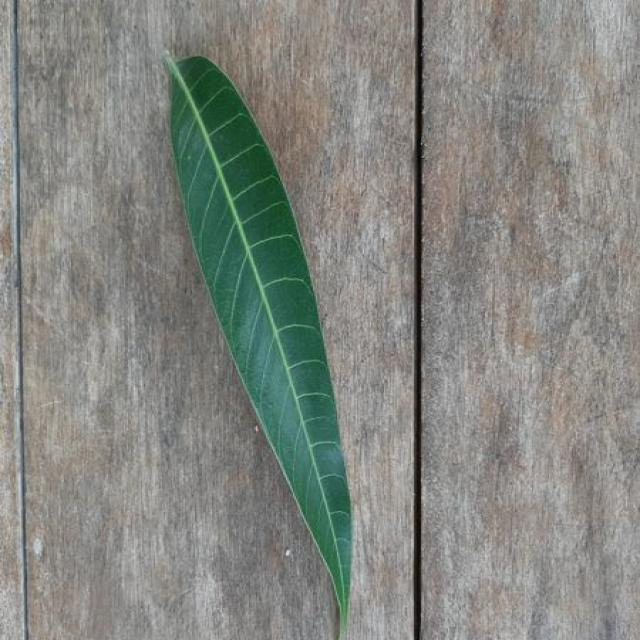mango: (168, 55, 352, 639)
